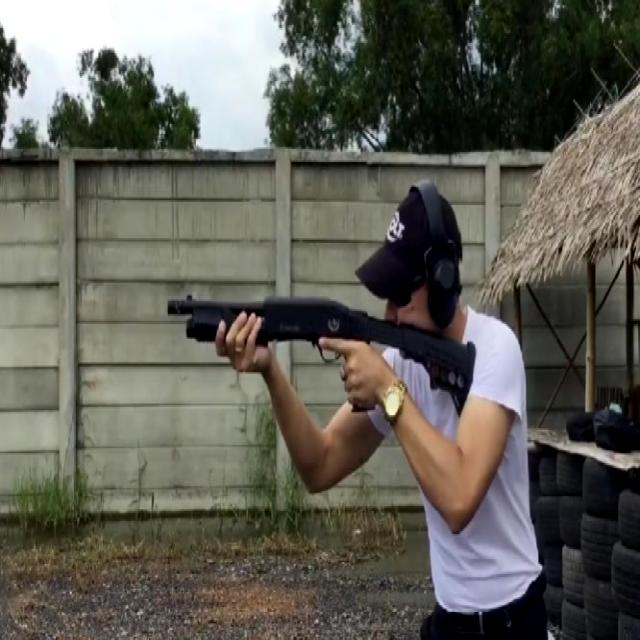shotgun: (159, 274, 490, 420)
